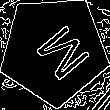M_SW: (21, 17, 87, 84)
